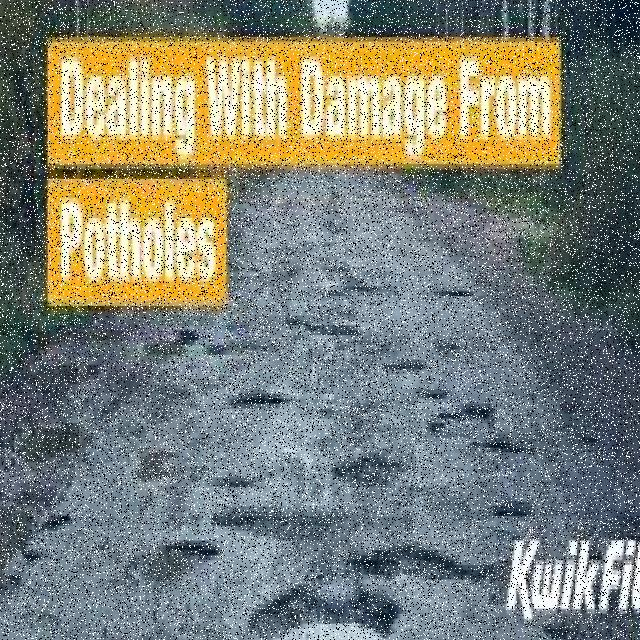pothole: (248, 589, 375, 638), (361, 545, 483, 580)
